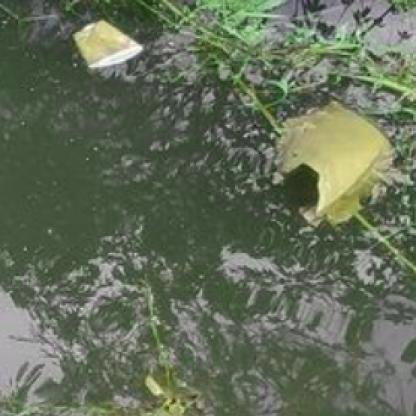Trash: (273, 100, 391, 224), (74, 18, 142, 73)
